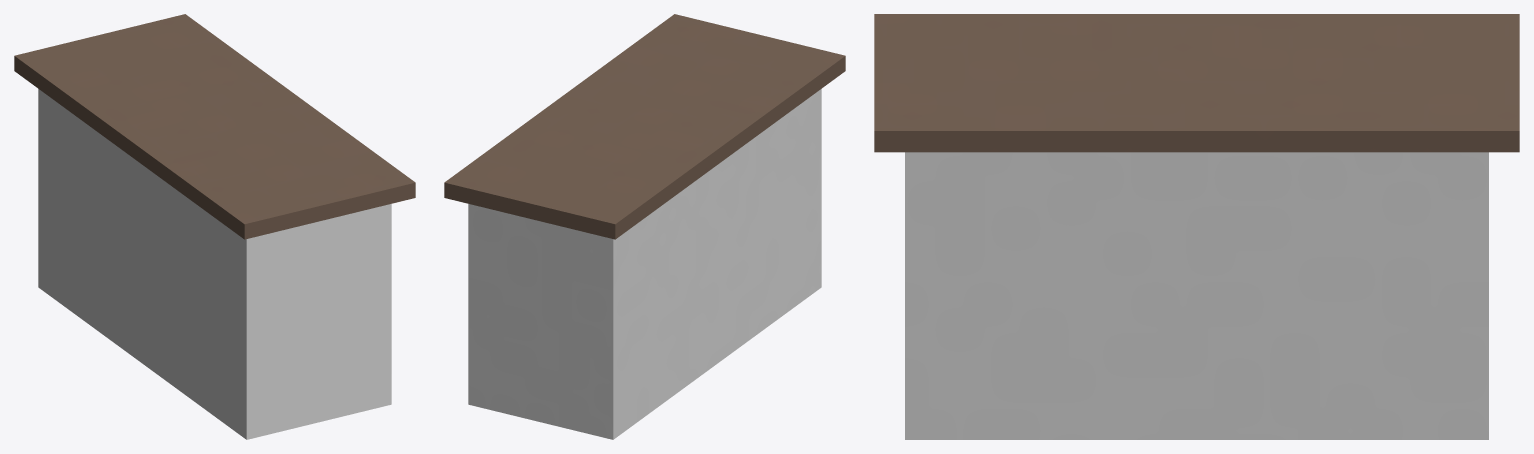
Rendered from Table_02_04.fbx.
The picture shows the model from 3 angles, left to right: view 1: azimuth 30°, elevation 25°; view 2: azimuth 150°, elevation 25°; view 3: azimuth 270°, elevation 25°; orthographic projection. The views are drawn at different scales.
Parts seen in each view (by area): view 1: Table_02_04; view 2: Table_02_04; view 3: Table_02_04.
Part boxes in pixels (left/top/right/bottom): Table_02_04: left=14, top=14, right=415, bottom=439; Table_02_04: left=444, top=14, right=845, bottom=439; Table_02_04: left=874, top=14, right=1519, bottom=439.
Bounding box in the file's own units: 0.6988 × 0.8856 × 1.63.
